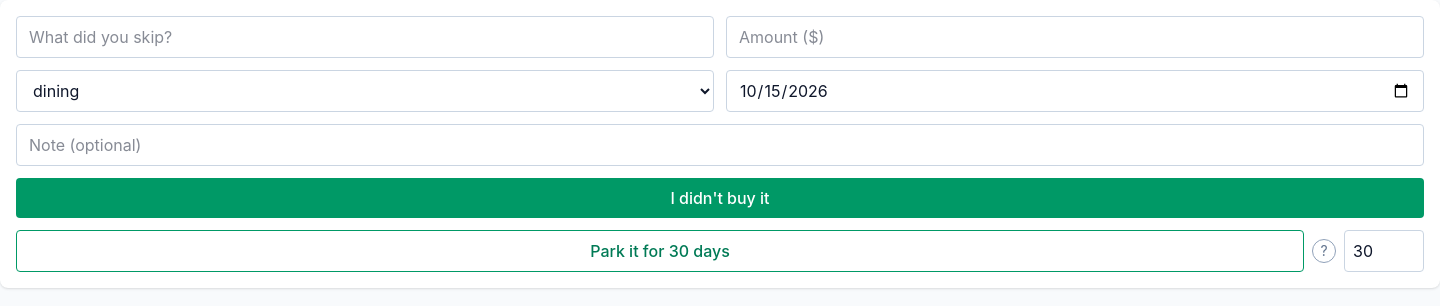
Scenario: EntryForm park help › closes on Escape and on an outside click
Click the button named "What does parking do?".
click(1324, 251)  # box [1312,239,1336,263]
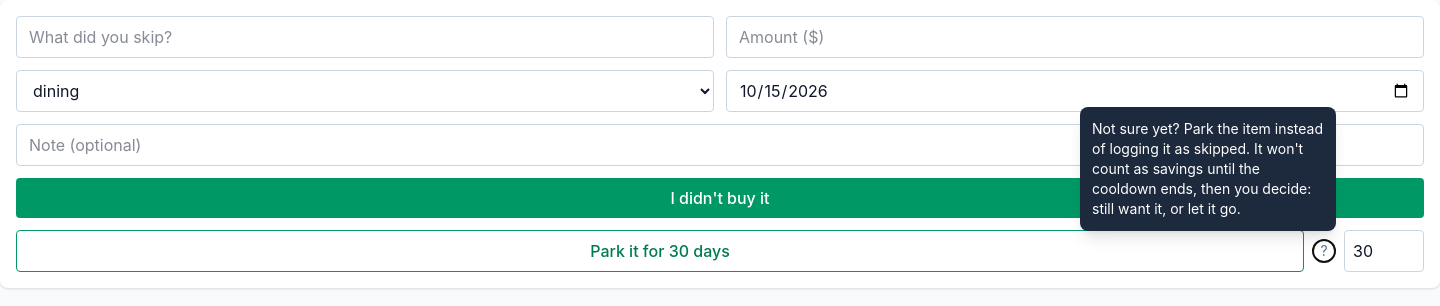
Press Escape
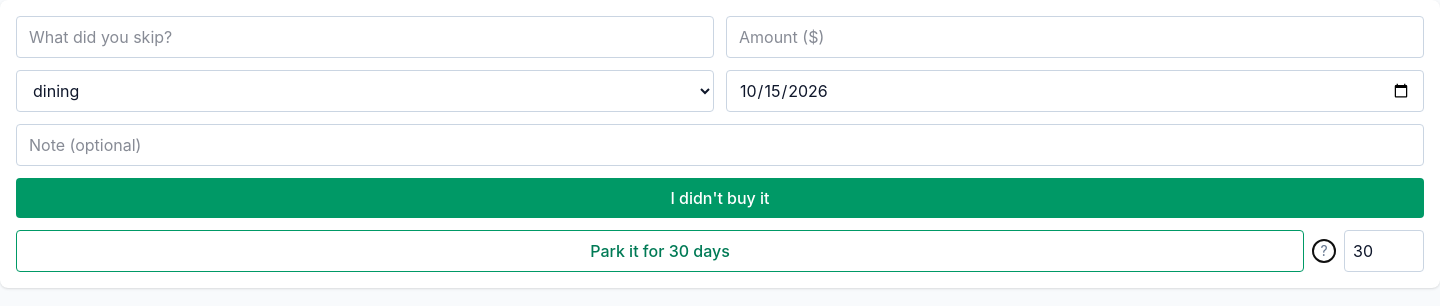
Expected: the tooltip "Not sure yet? Park the item instead of logging it as skipped. It won't count as" is gone
Click the button named "What does parking do?".
click(1324, 251)  # box [1312,239,1336,263]
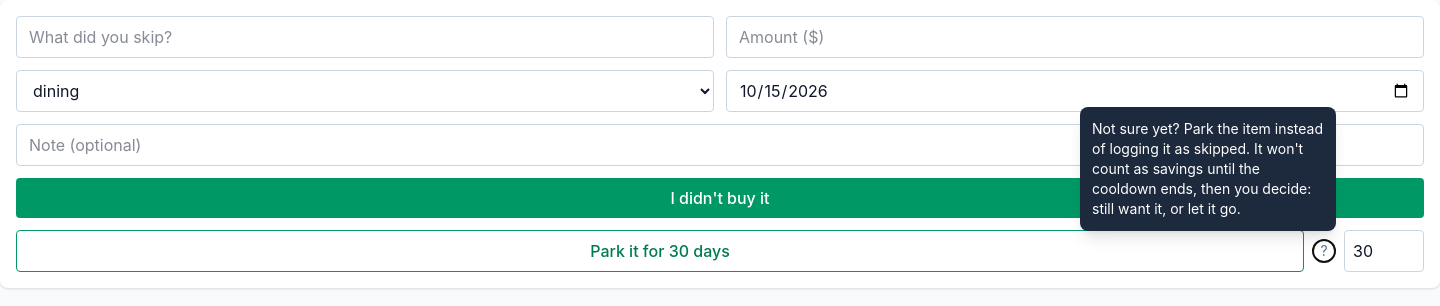
Click the field with placeholder "Note (optional)".
click(720, 145)  # box [16,124,1424,166]
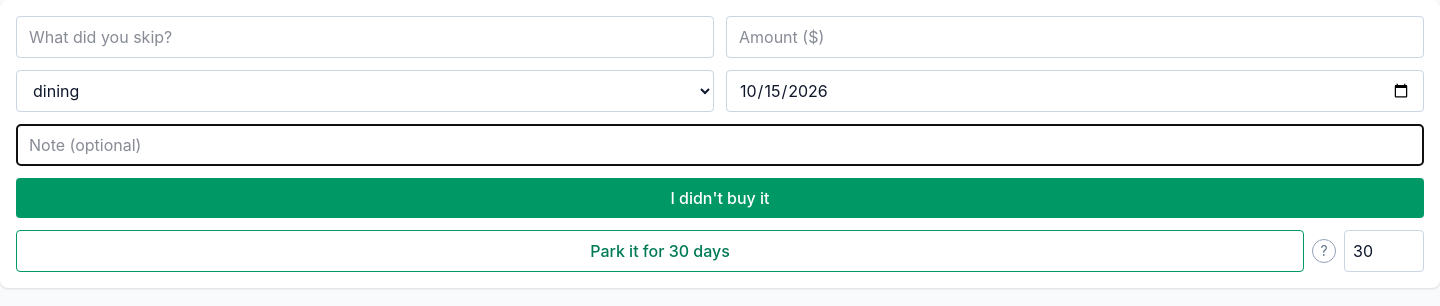
Expected: the tooltip "Not sure yet? Park the item instead of logging it as skipped. It won't count as" is gone
